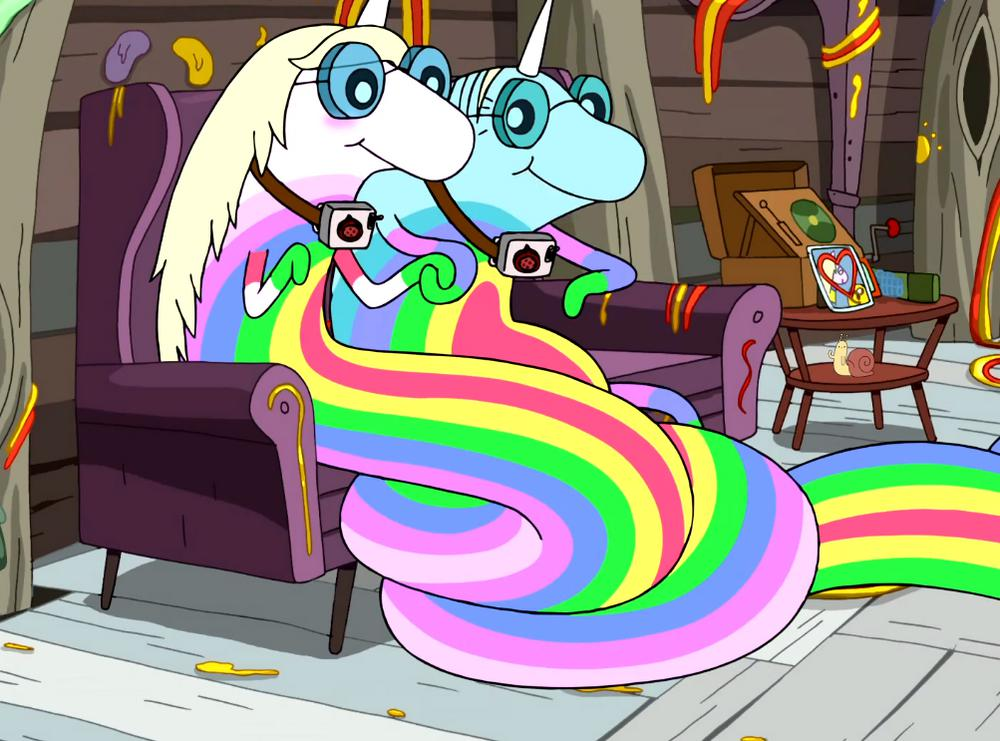snail: (826, 333, 878, 380)
